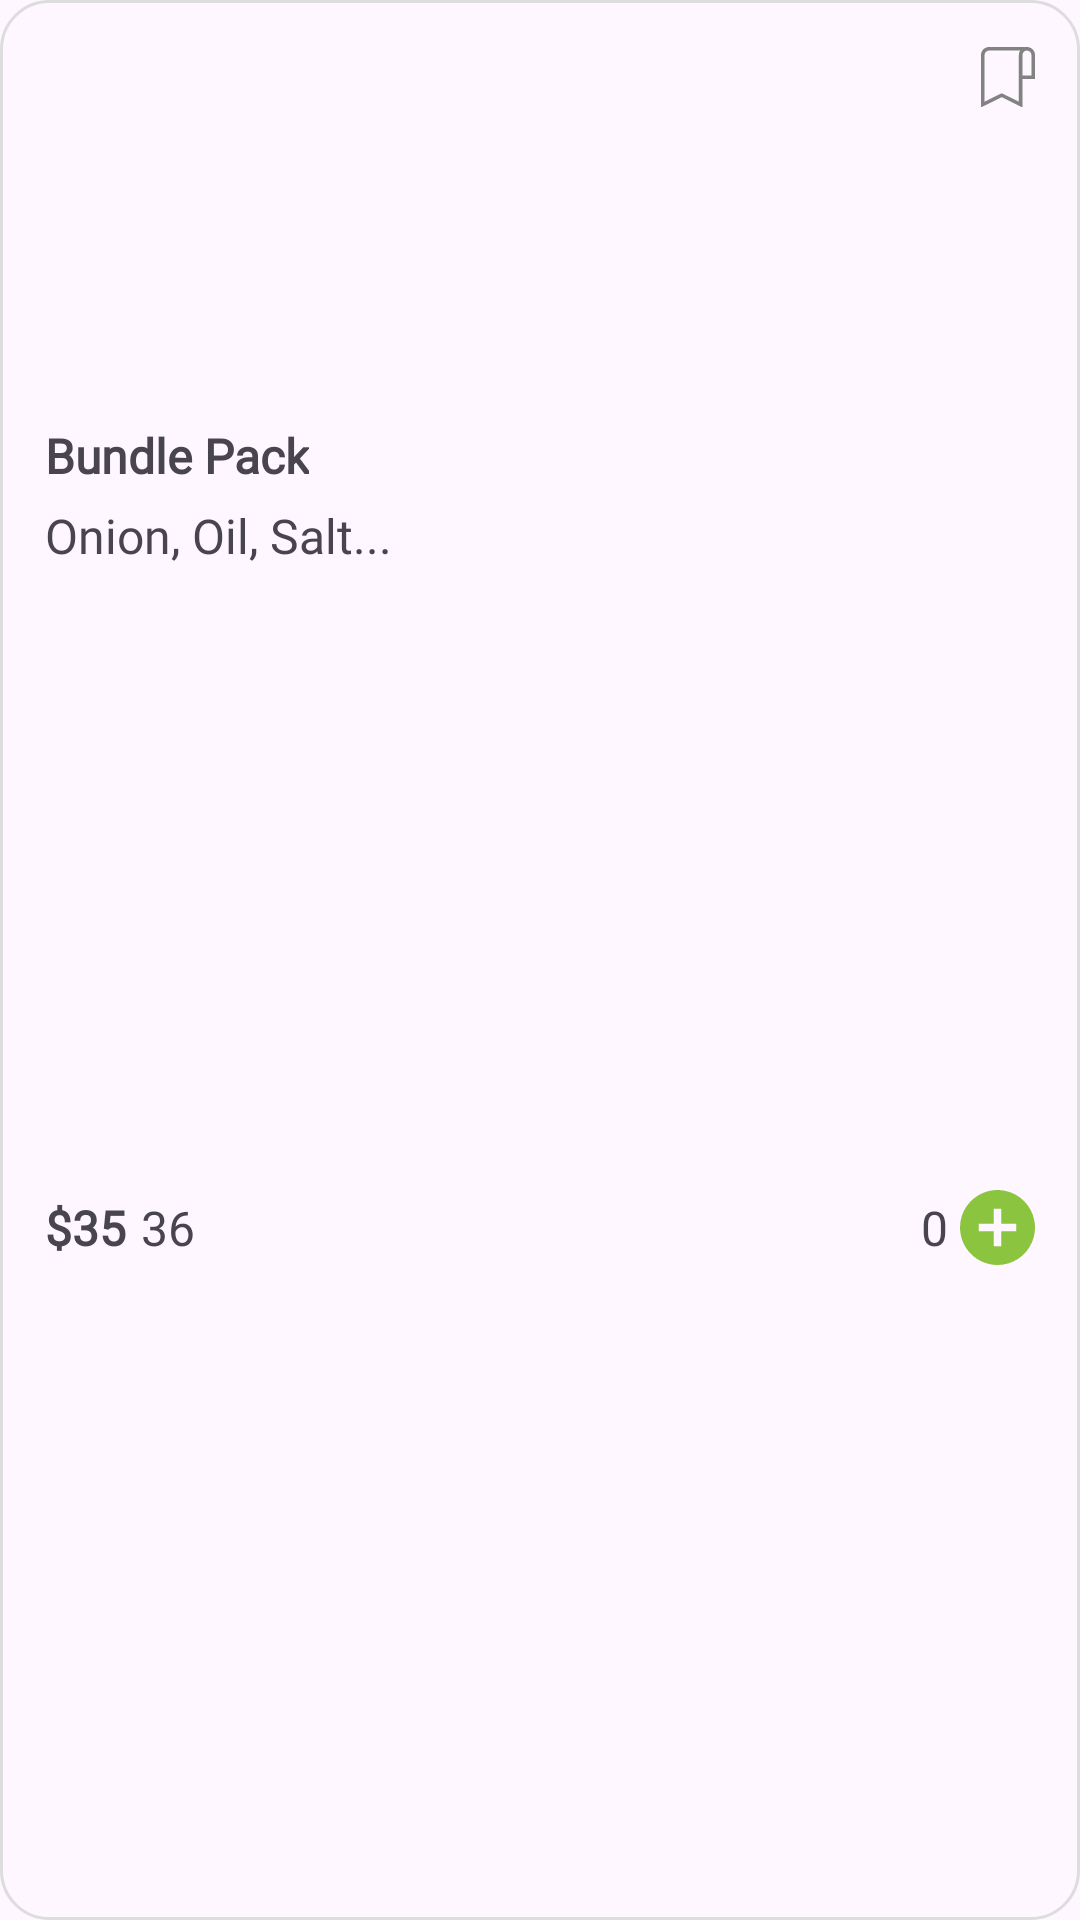

Icon click points for this 1080px x 1920px phone screenshot, format (x=x, y=y):
Add button icon: (x=997, y=1227)
save: (x=1008, y=77)
